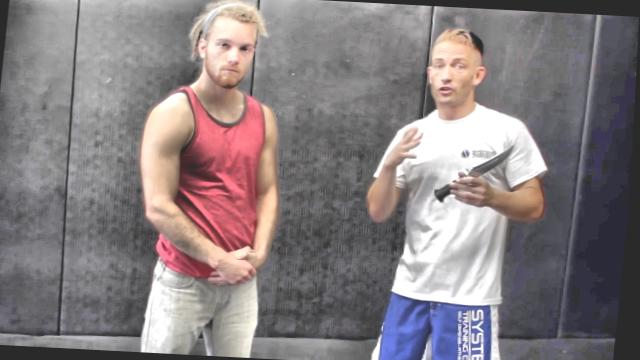knife: (431, 136, 520, 207)
